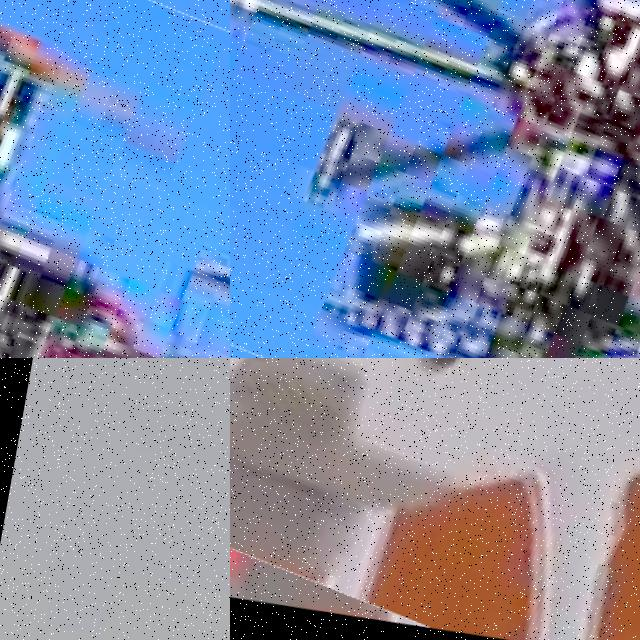0: (230, 0, 640, 358), (0, 0, 230, 358)
drone: (230, 358, 640, 640)
